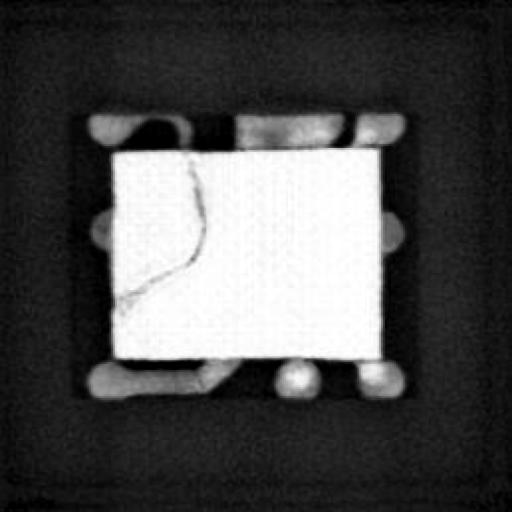DIE_INK: (119, 157, 206, 313)
